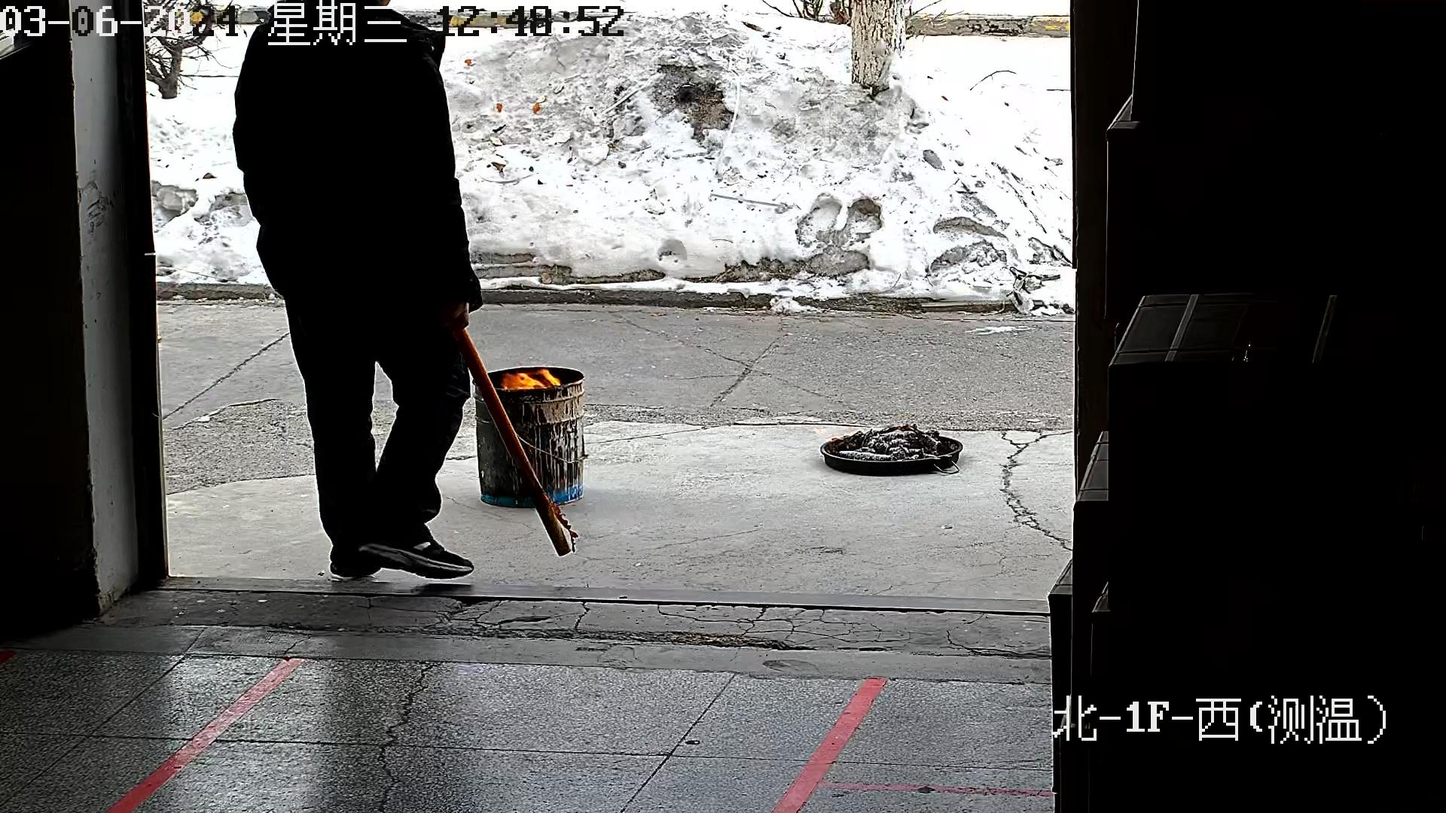fire: (490, 367, 581, 391)
